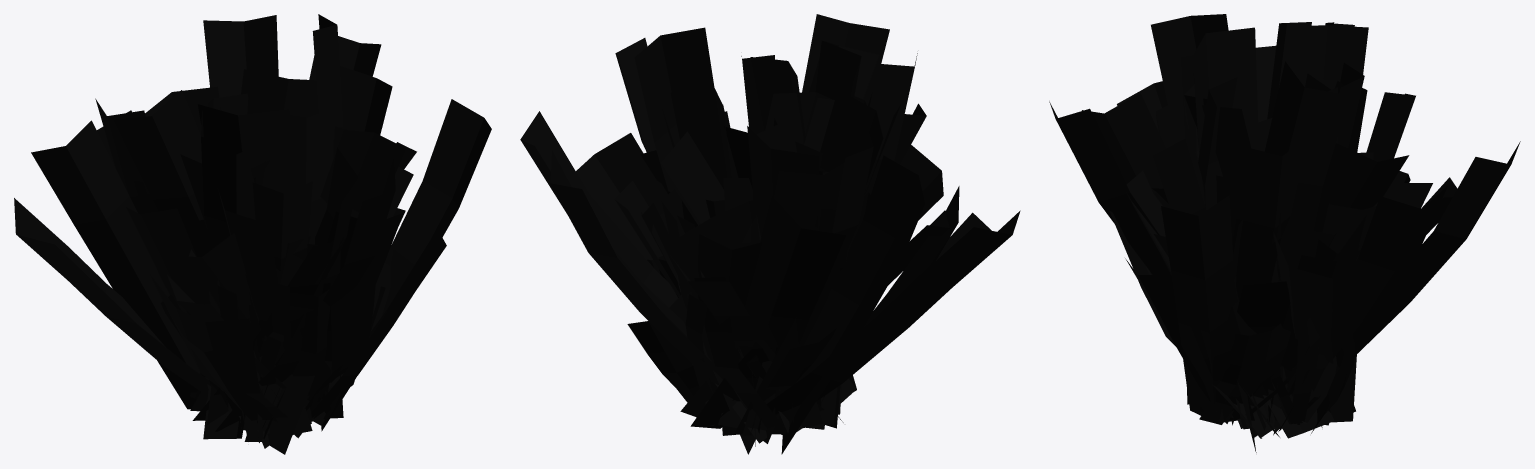
The model's file is WeirdStuffTesting04.fbx.
3 views of the same model, side by side, from view 1: azimuth 30°, elevation 25°; view 2: azimuth 150°, elevation 25°; view 3: azimuth 270°, elevation 25° (orthographic). The views are drawn at different scales.
Visible parts, largest first — view 1: Plane.067; view 2: Plane.067; view 3: Plane.067.
Boxes of the visible parts, bbox=[...] form: Plane.067: bbox=[14, 14, 491, 454]; Plane.067: bbox=[520, 14, 1020, 454]; Plane.067: bbox=[1049, 14, 1520, 452].
Size of the model in its own units: 85.04 by 73.19 by 79.05.
